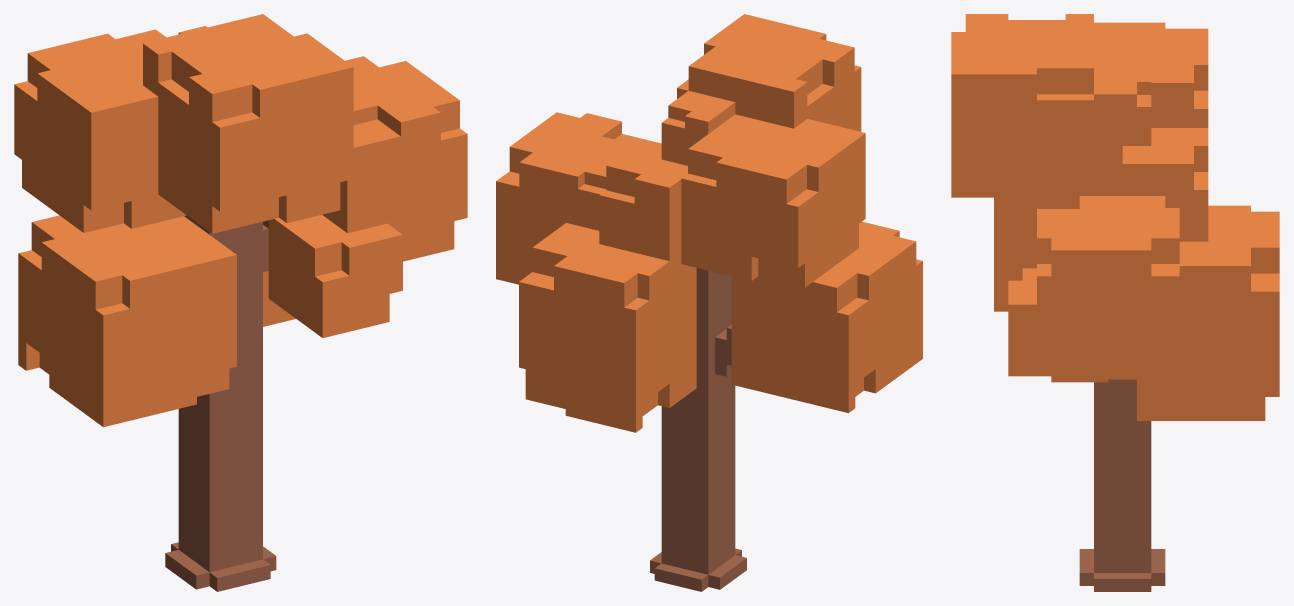
Rendered from village_tree_3.glb.
The picture shows the model from 3 angles, left to right: view 1: azimuth 30°, elevation 25°; view 2: azimuth 150°, elevation 25°; view 3: azimuth 270°, elevation 25°; orthographic projection. The views are drawn at different scales.
Visible parts, largest first — view 1: village_tree_3; view 2: village_tree_3; view 3: village_tree_3.
Part boxes in pixels (<box>): village_tree_3: <box>14,14,467,591</box>; village_tree_3: <box>496,14,922,591</box>; village_tree_3: <box>951,14,1279,591</box>.
Bounding box in the file's own units: 2.9 × 4 × 2.3.
1 material, 1 textured.
